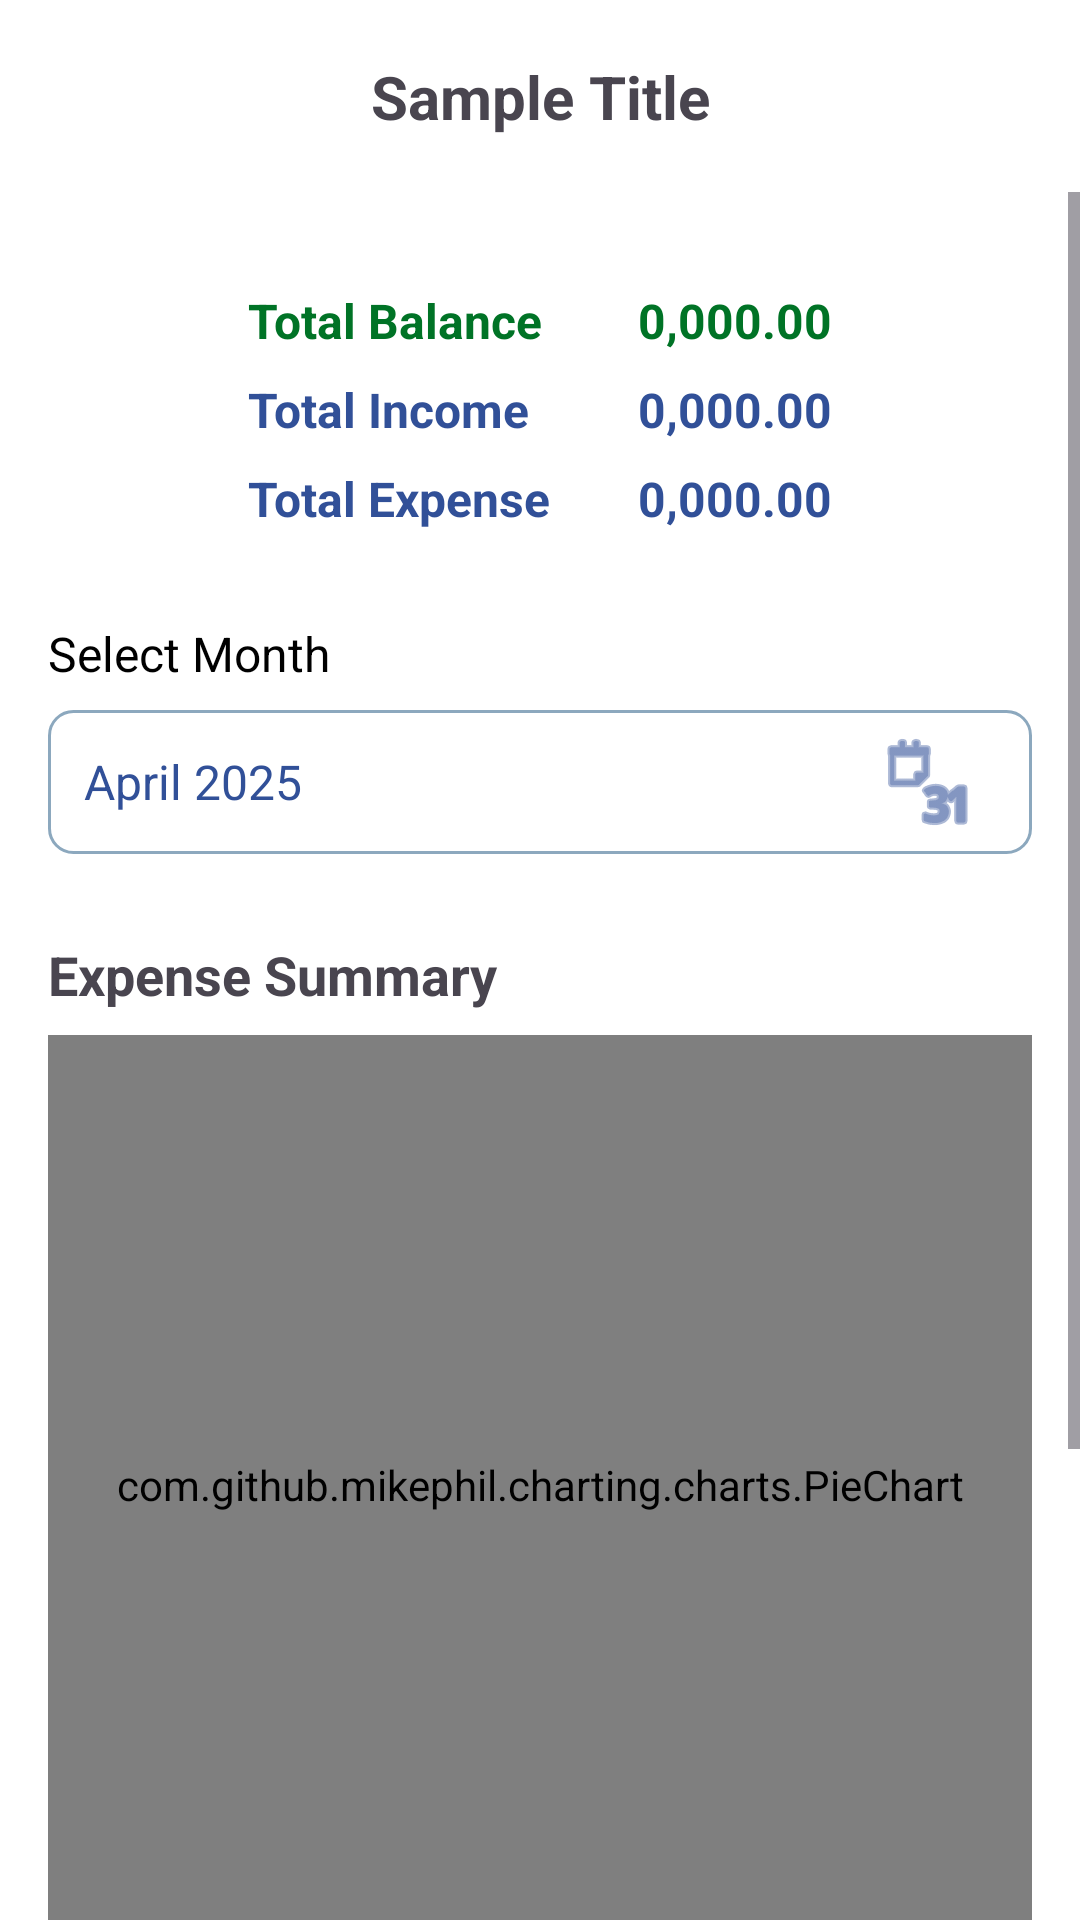

Screen size 1080×1920. Icon name, then its box in pixels as (x1=x1, y1=y1, x2=x2, y2=y2):
Select Month: (x1=887, y1=739, x2=968, y2=825)
